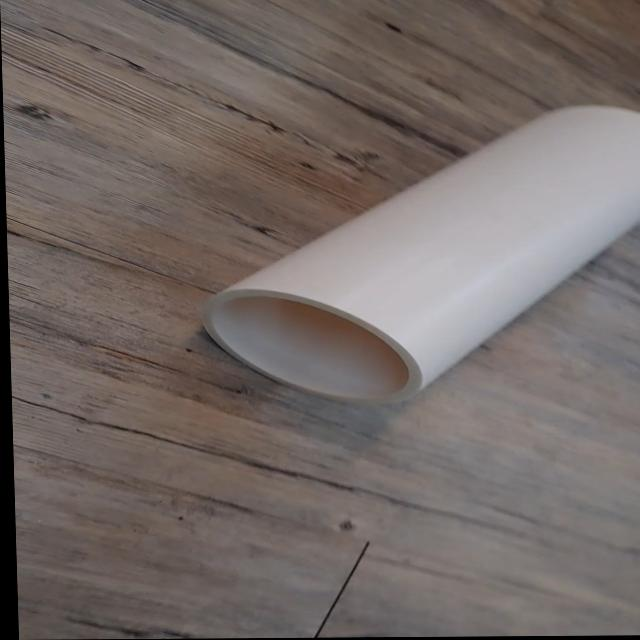CORAL: (178, 89, 640, 414)
